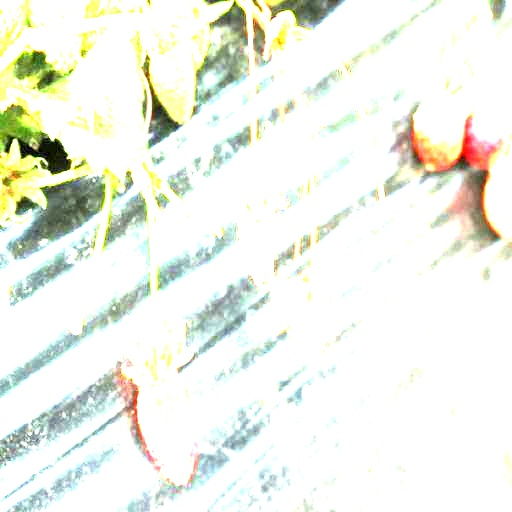Gray Mold: (223, 163, 290, 290), (270, 265, 335, 363)
